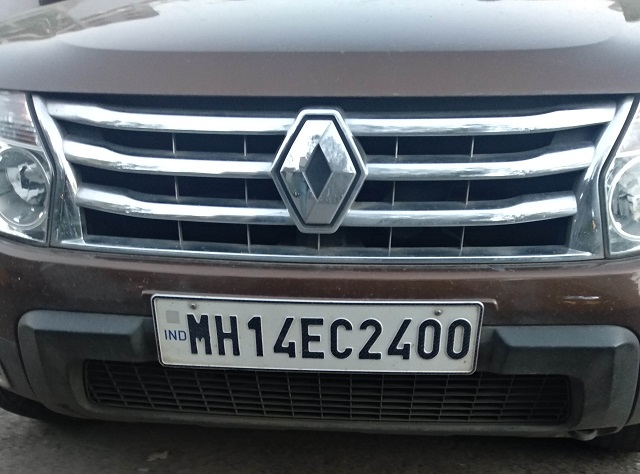licenseplate: (147, 290, 485, 374)
